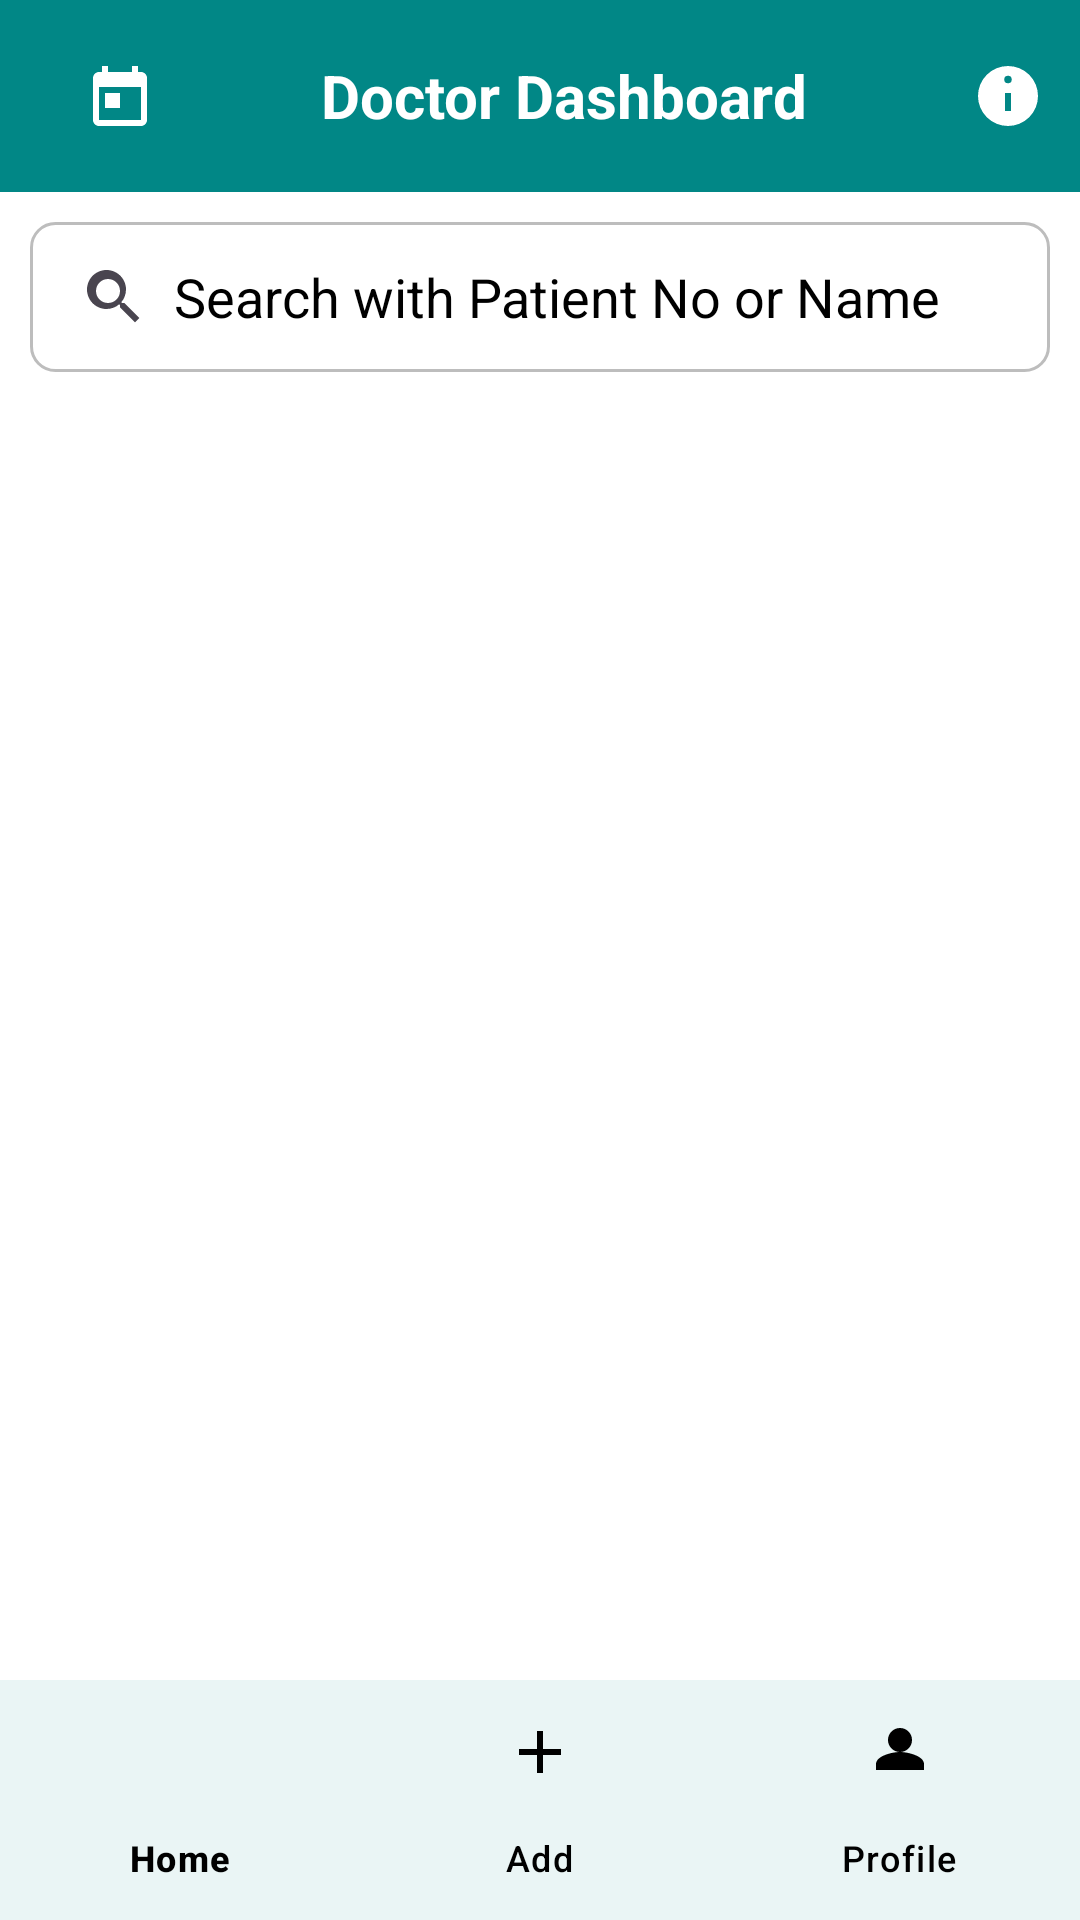

Icons on this 1080*1920 Android screen, each with the point to tap as (x,y):
Appointments: (120,96)
Info: (1008,96)
